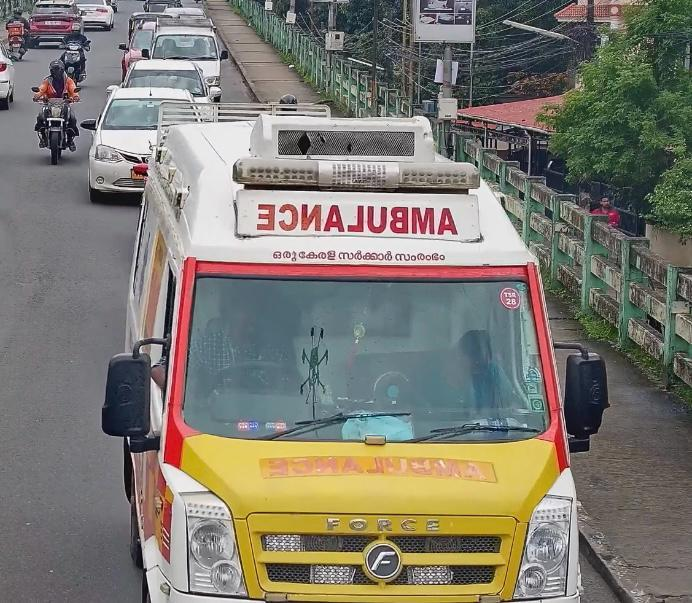ambulance: (101, 103, 597, 595)
